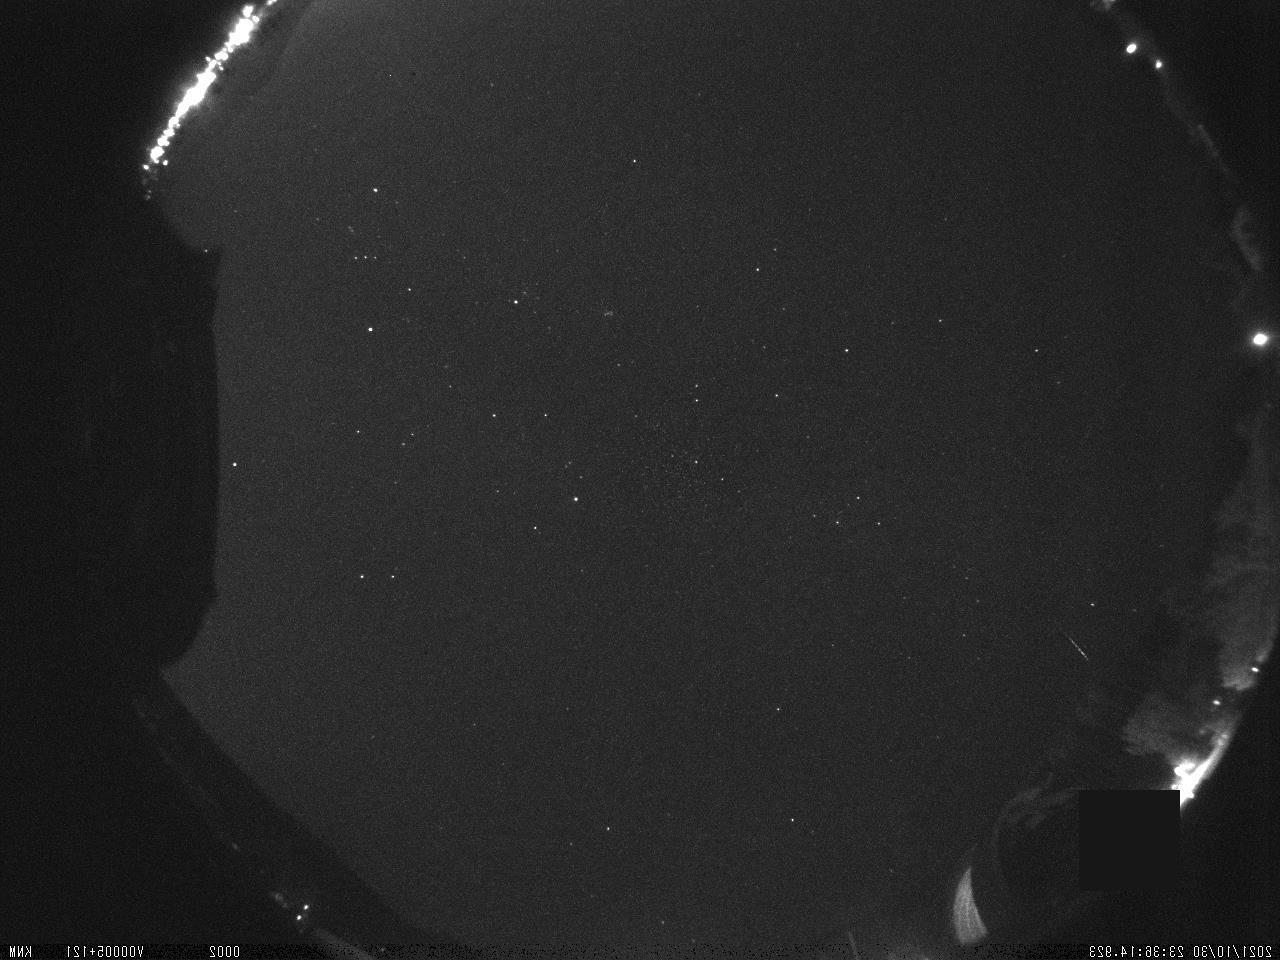meteor: (1044, 609, 1097, 675)
